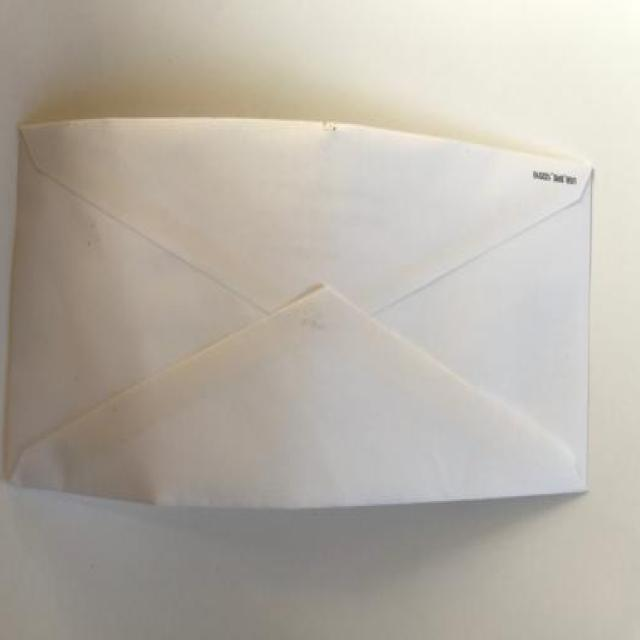kertas: (1, 114, 596, 512)
